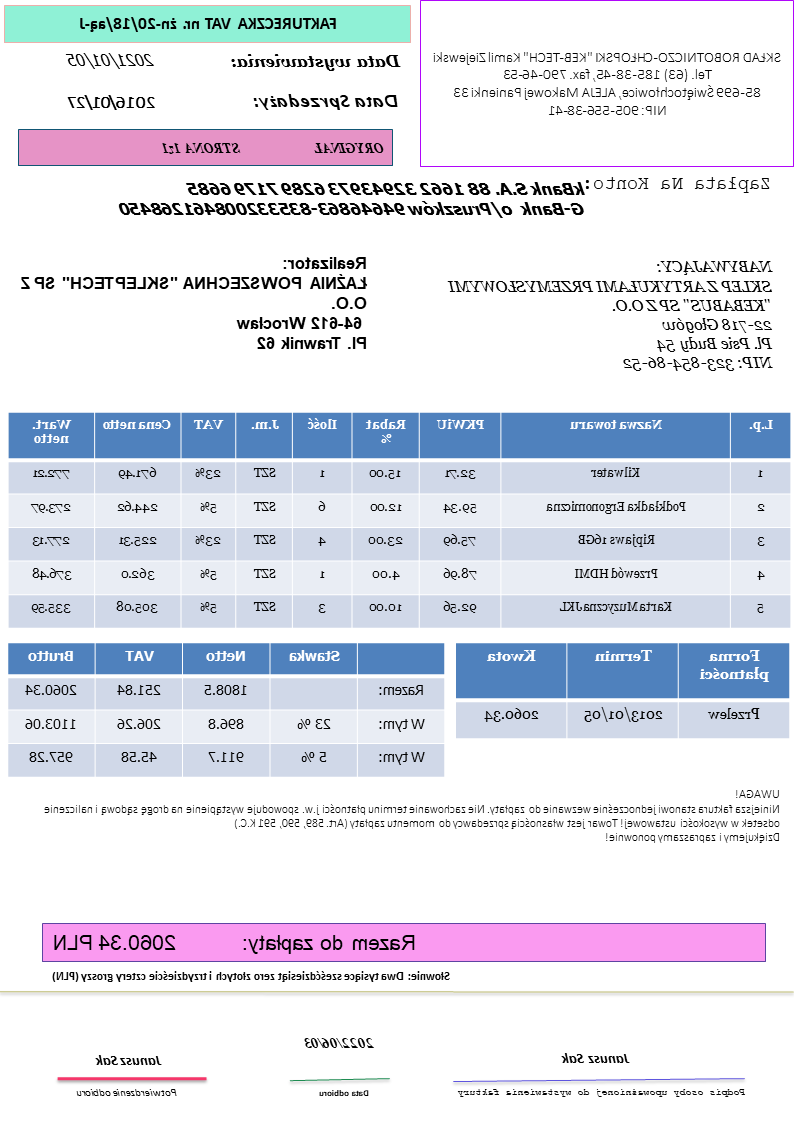Table: (7, 409, 793, 631), (5, 641, 446, 780), (456, 640, 791, 739)
TextBox: (41, 786, 782, 845), (444, 256, 775, 376), (15, 255, 371, 357), (429, 46, 784, 124), (115, 181, 586, 219), (52, 931, 418, 955), (48, 968, 453, 985), (77, 11, 341, 35), (231, 50, 403, 77), (158, 139, 386, 159), (456, 1087, 750, 1100), (583, 174, 773, 194), (251, 91, 403, 114), (64, 49, 156, 73), (66, 91, 158, 112), (559, 1048, 634, 1069), (73, 1087, 180, 1099), (301, 1035, 377, 1051), (93, 1053, 165, 1068), (315, 1087, 373, 1100)
